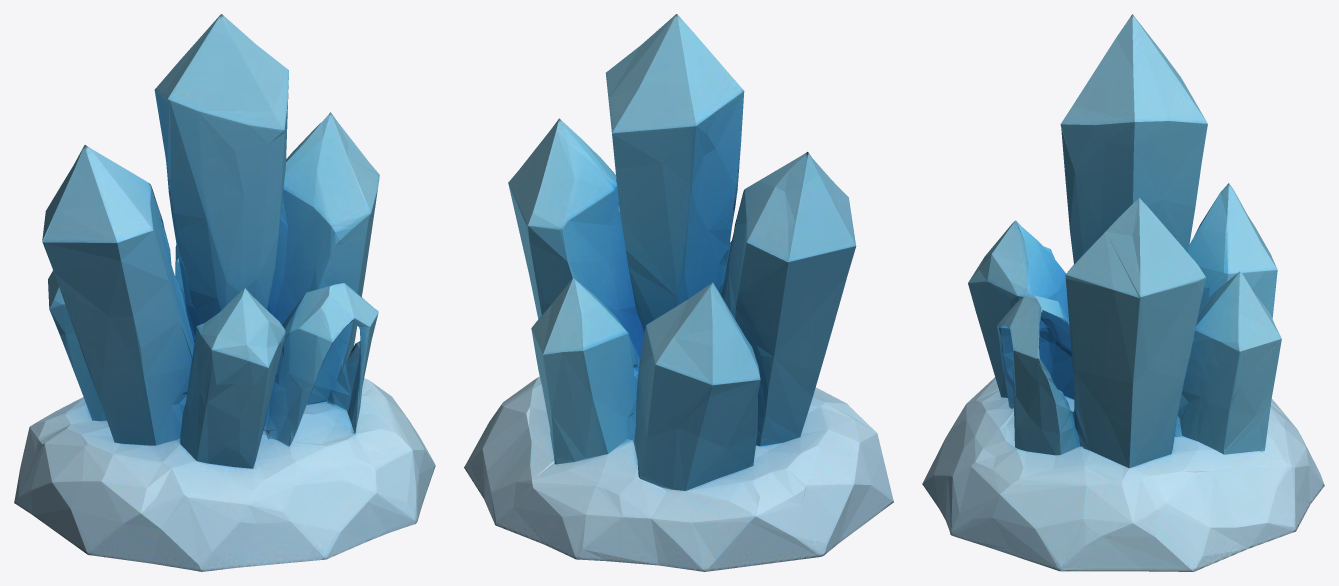
File: givre_cristaux.glb
3 renders of one model, left to right at view 1: azimuth 30°, elevation 25°; view 2: azimuth 150°, elevation 25°; view 3: azimuth 270°, elevation 25°, orthographic.
Parts seen in each view (by area): view 1: geometry_0; view 2: geometry_0; view 3: geometry_0.
Part boxes in pixels (box(x1,y1,x2,y2)): geometry_0: box(14, 14, 435, 571); geometry_0: box(464, 14, 893, 571); geometry_0: box(922, 14, 1324, 571).
Bounding box in the file's own units: 0.7959 × 0.9985 × 0.7744.
Materials: 1 (1 with a texture image).
